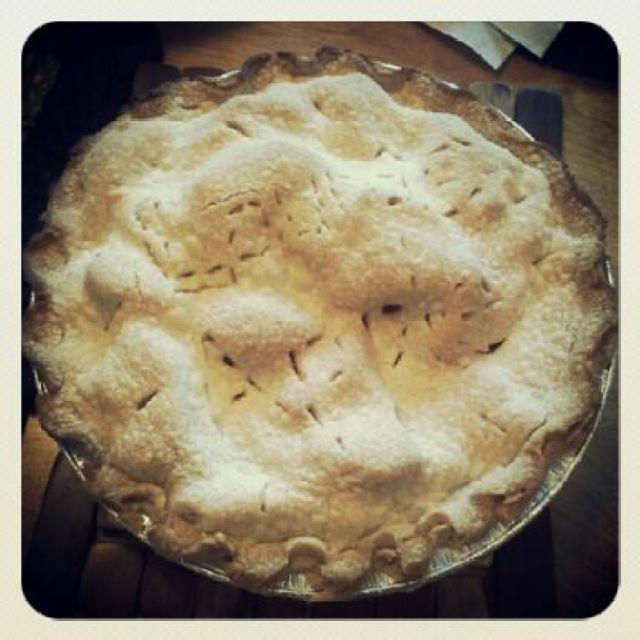Apple: (58, 60, 610, 563)
